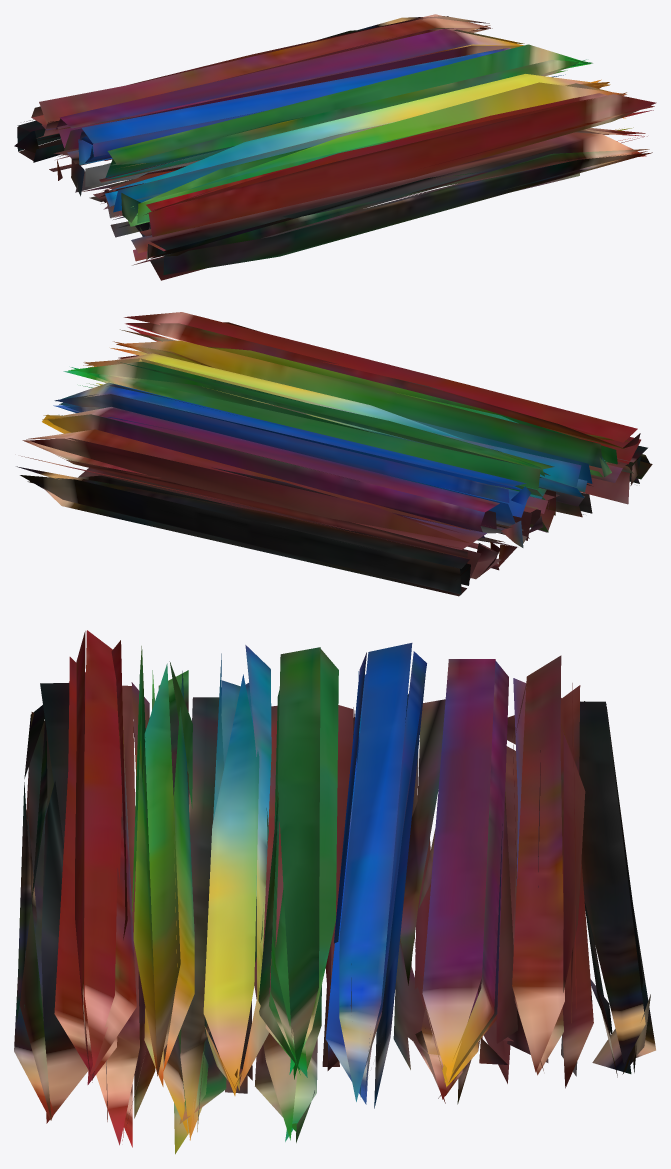
File: kinder_buntstifte_lo.glb
The picture shows the model from 3 angles, top to bottom: view 1: azimuth 30°, elevation 25°; view 2: azimuth 150°, elevation 25°; view 3: azimuth 270°, elevation 25°; orthographic projection. The views are drawn at different scales.
Parts seen in each view (by area): view 1: Prop; view 2: Prop; view 3: Prop.
Part boxes in pixels (x1,y1,x2,y2): Prop: (14,14,656,280); Prop: (16,312,652,596); Prop: (14,630,655,1154).
Bounding box in the file's own units: 7.68 × 1.09 × 4.9.
1 material, 1 textured.
